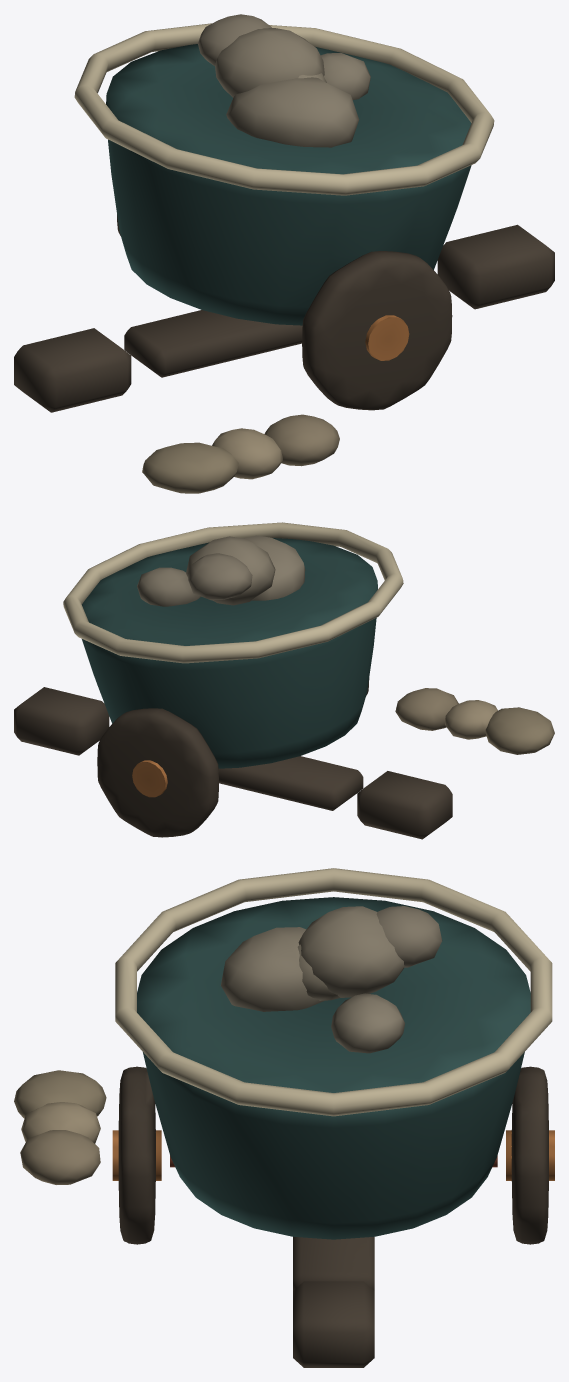
Rendered from ore_trolley_b.glb.
3 renders of one model, top to bottom at view 1: azimuth 30°, elevation 25°; view 2: azimuth 150°, elevation 25°; view 3: azimuth 270°, elevation 25°, orthographic. The views are drawn at different scales.
Visible parts, largest first — view 1: Surface; view 2: Surface; view 3: Surface.
Part boxes in pixels (x1,y1,x2,y2): Surface: (14,14,554,493); Surface: (14,522,554,839); Surface: (14,868,554,1367).
Bounding box in the file's own units: 2.33 × 1.31 × 1.98.
